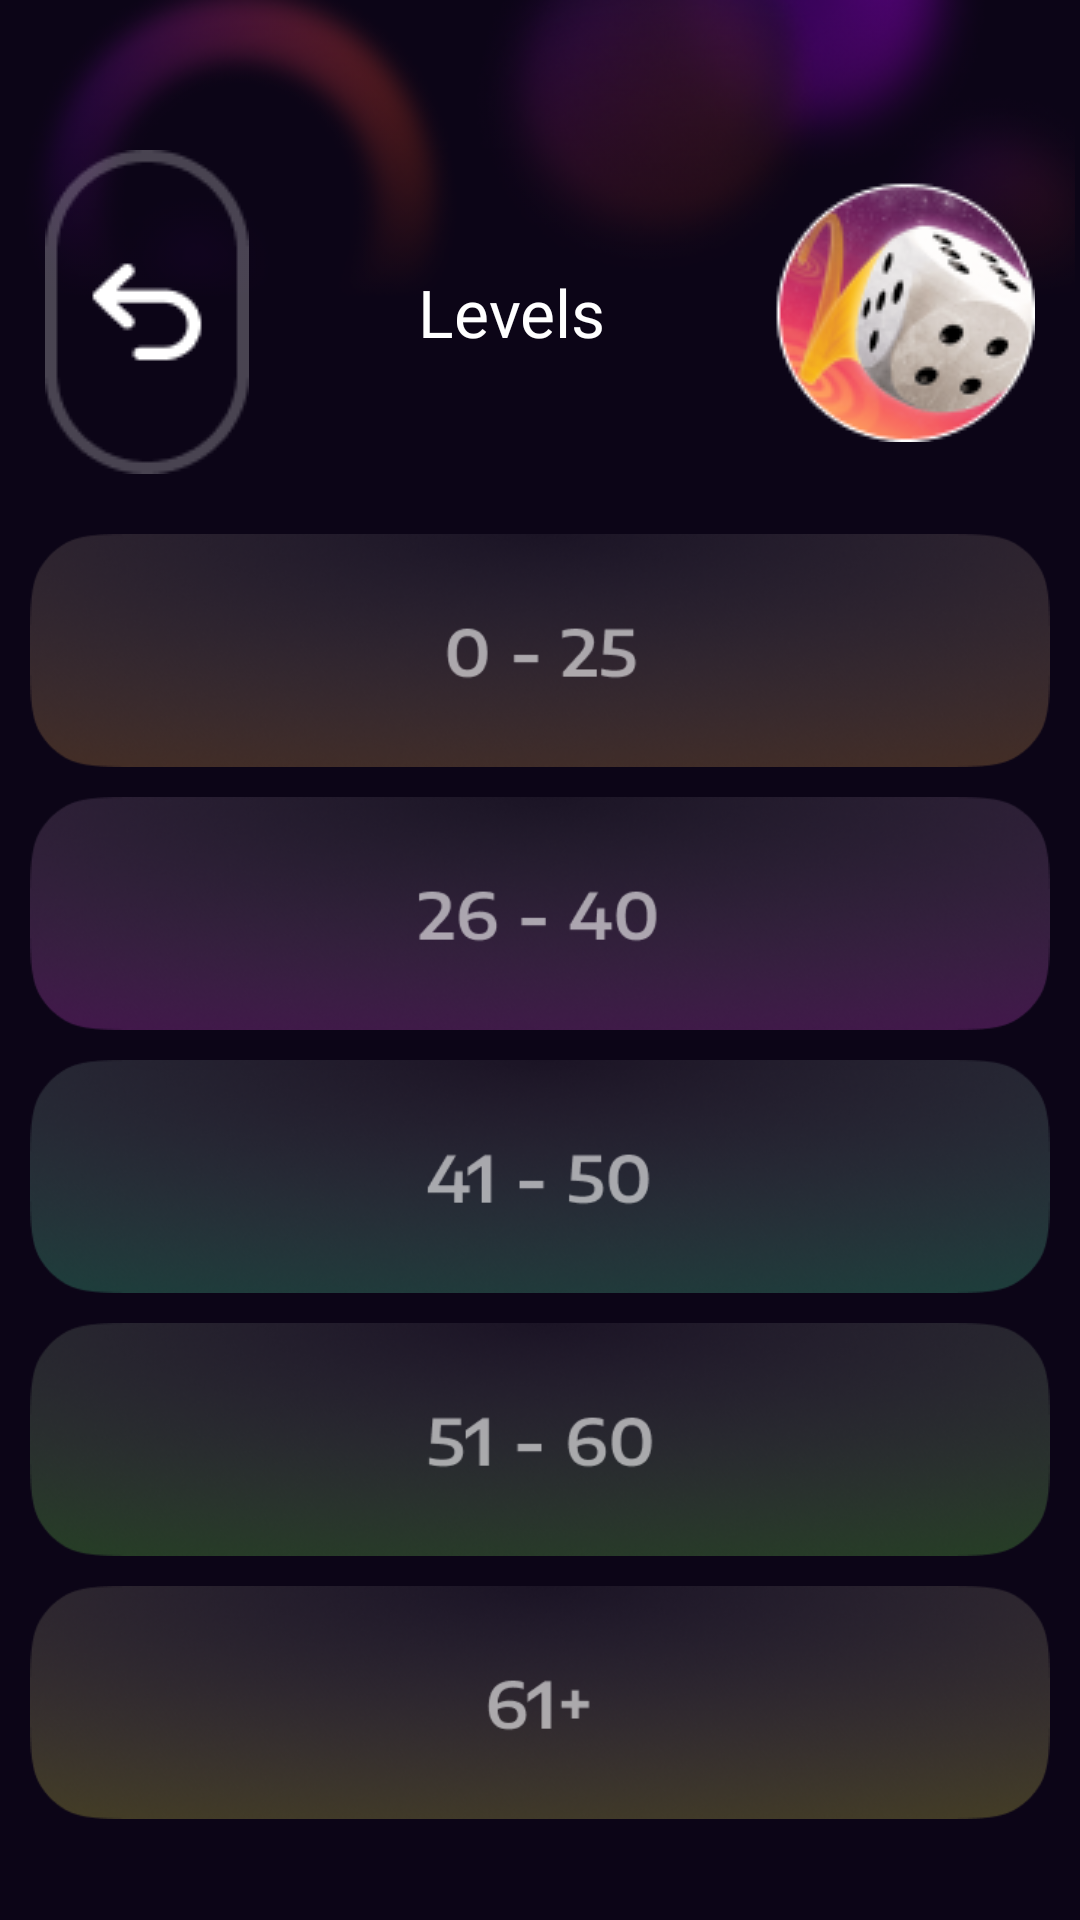

Screen size 1080px x 1920px. Icon name, then its center in pixels as (x=x, y=y):
back: (x=147, y=312)
